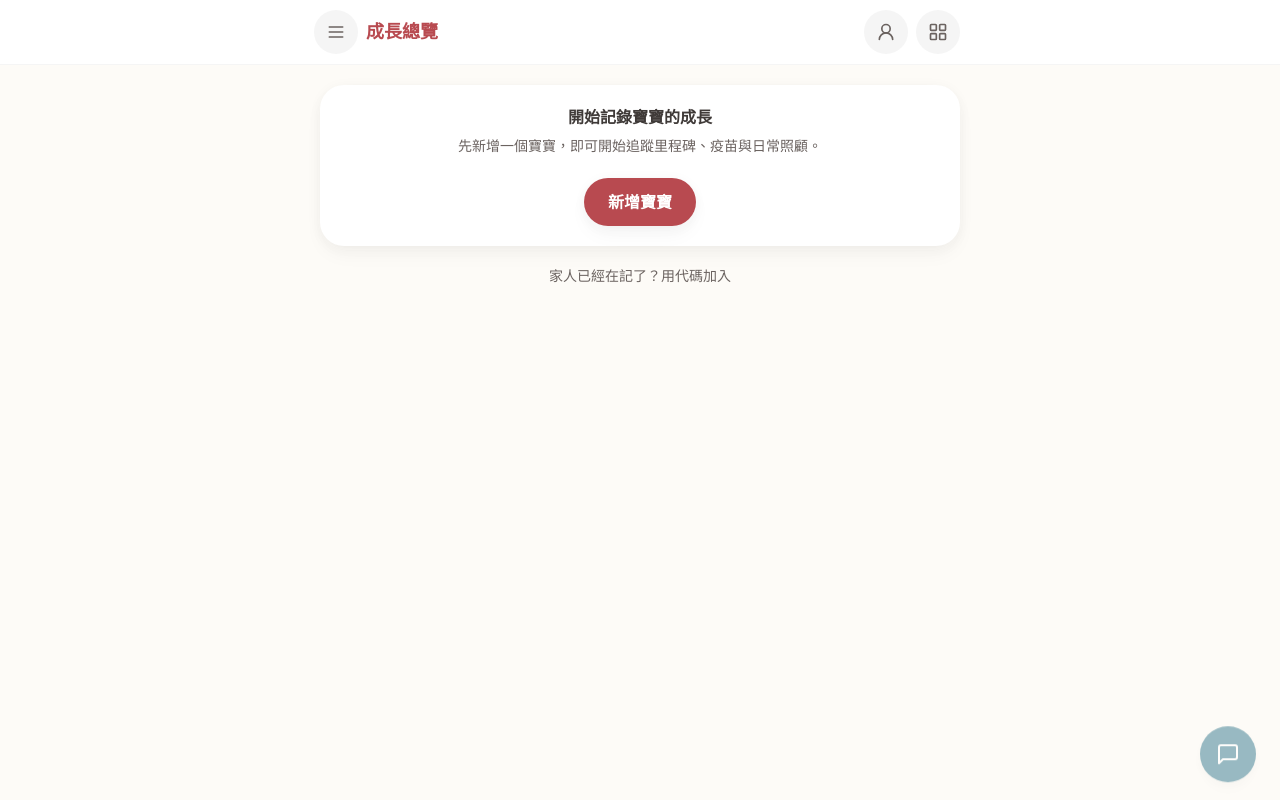
Test: page views › does not log again when App re-renders on the same page
Note: Opening the sidebar is a state change inside AppContent itself.
Click the button named "開啟選單" at coordinates (336, 32), box [314,10,358,54]
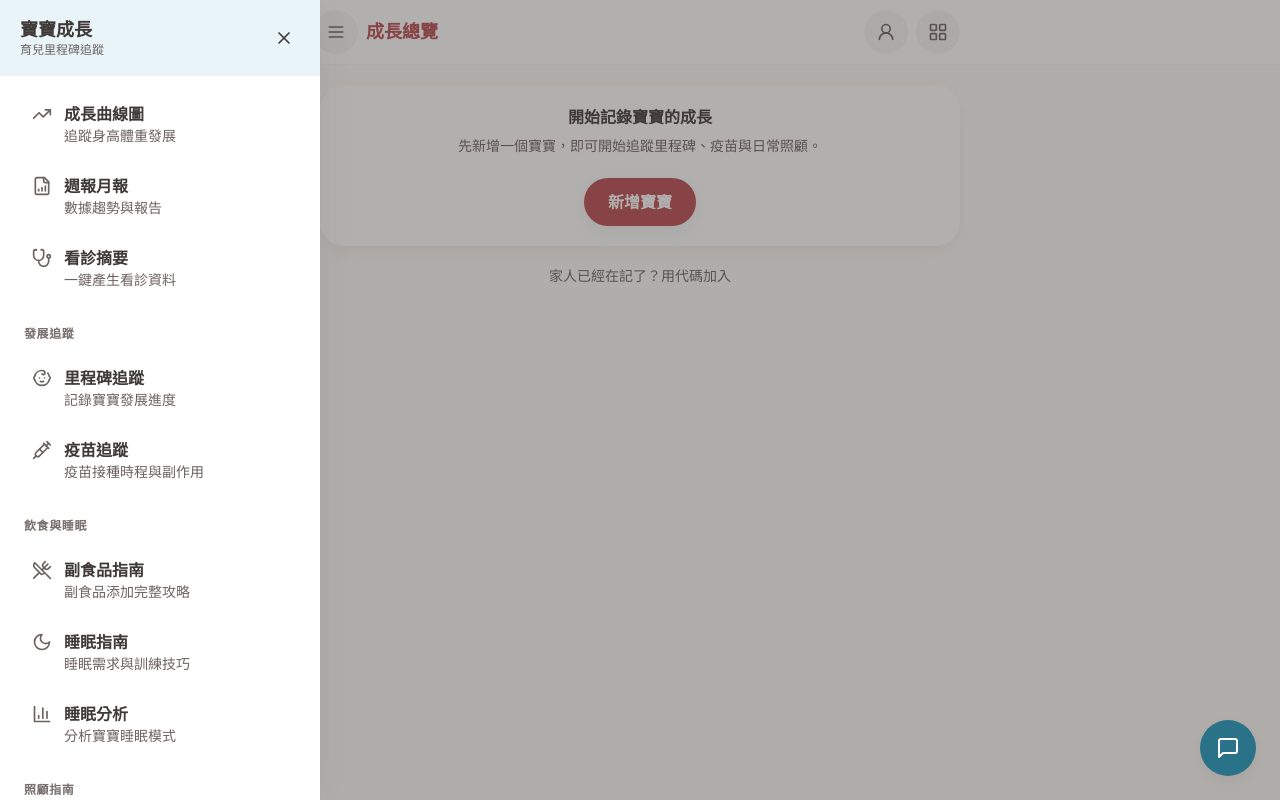
Now the button "里程碑追蹤 記錄寶寶發展進度" is shown, box [16,354,304,422]
